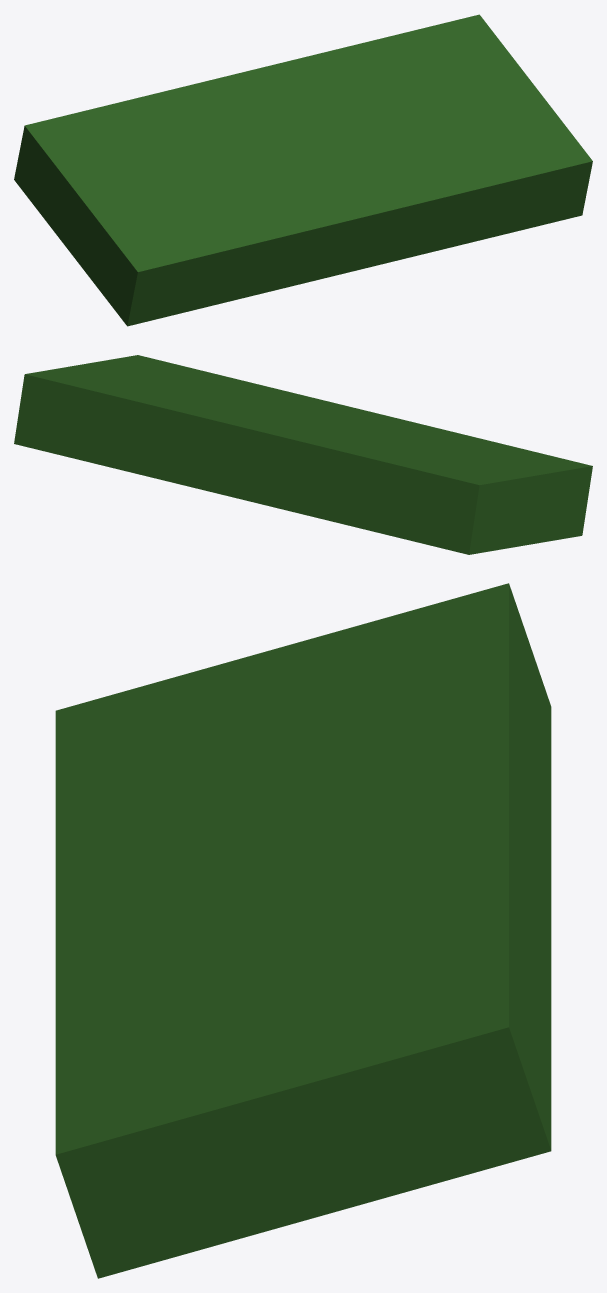
File: micsher.008_material.008_0_lev1.glb
The picture shows the model from 3 angles, top to bottom: view 1: azimuth 30°, elevation 25°; view 2: azimuth 150°, elevation 25°; view 3: azimuth 270°, elevation 25°; orthographic projection. The views are drawn at different scales.
Visible parts, largest first — view 1: micsher.008_material.008_0_lev1; view 2: micsher.008_material.008_0_lev1; view 3: micsher.008_material.008_0_lev1.
Boxes of the visible parts, x1=… form: micsher.008_material.008_0_lev1: x1=14, y1=14, x2=592, y2=326; micsher.008_material.008_0_lev1: x1=14, y1=355, x2=592, y2=554; micsher.008_material.008_0_lev1: x1=55, y1=583, x2=551, y2=1278.
Size of the model in its own units: 1.95 by 0.5141 by 0.9185.
